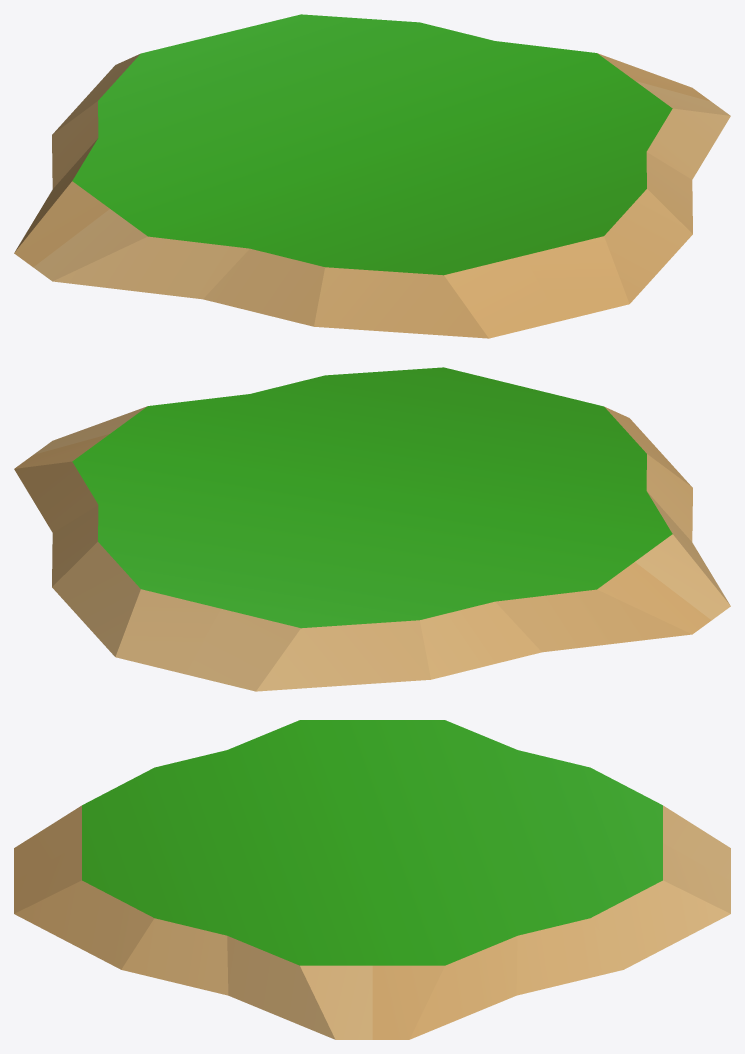
File: Ground_piece_var_1.glb
The picture shows the model from 3 angles, top to bottom: view 1: azimuth 30°, elevation 25°; view 2: azimuth 150°, elevation 25°; view 3: azimuth 270°, elevation 25°; orthographic projection. The views are drawn at different scales.
Parts seen in each view (by area): view 1: Plane; view 2: Plane; view 3: Plane.
Part boxes in pixels (box(x1,y1,x2,y2)): Plane: box(14, 14, 730, 338); Plane: box(14, 367, 730, 691); Plane: box(14, 720, 730, 1039).
Bounding box in the file's own units: 25.86 × 1.45 × 24.67.
Materials: 1 (1 with a texture image).
